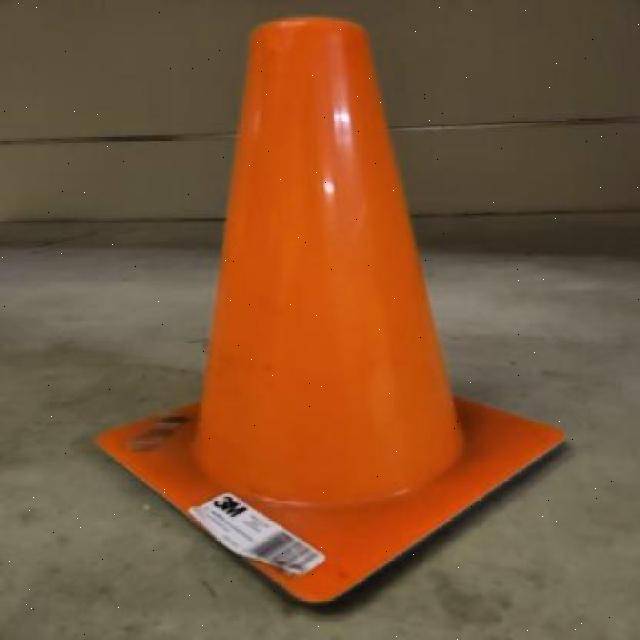traffic cone: (84, 9, 580, 621)
